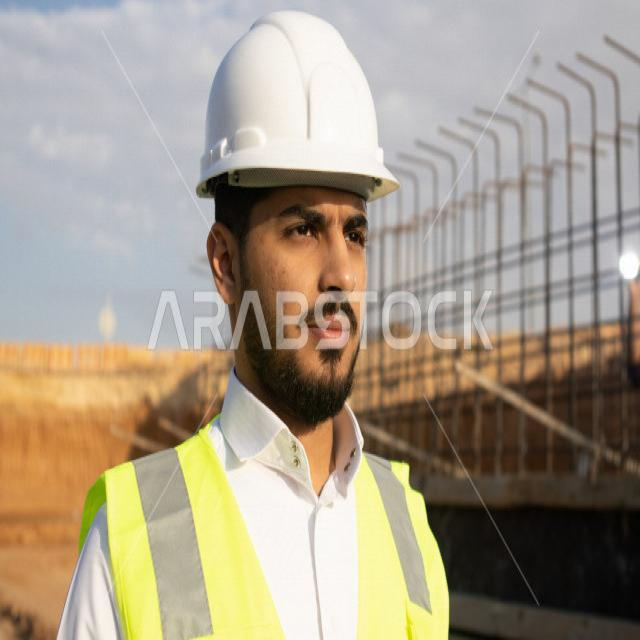helmet: (178, 3, 408, 219)
no-goggles: (210, 174, 402, 274)
vest: (84, 417, 454, 640)
